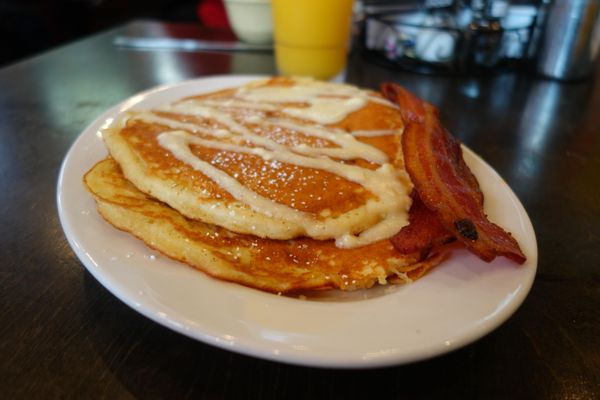pizza: (270, 0, 354, 81)
